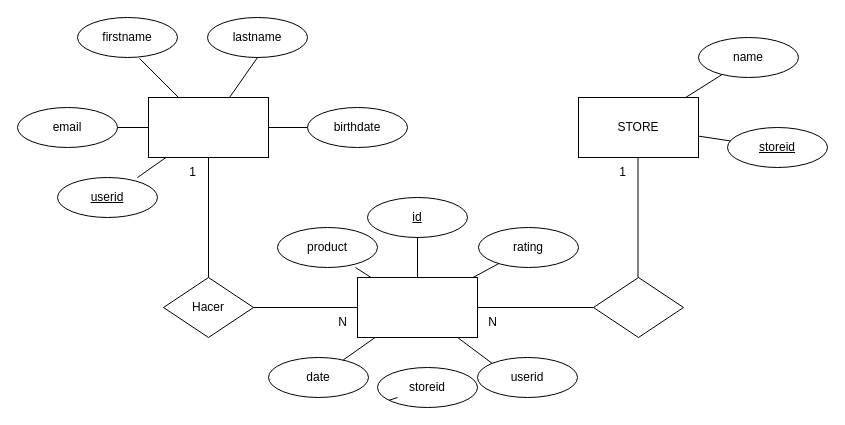
The diagram is 845 pixels wide and 425 high, and some of its shapes have lost their labels. The centre of each missing label's shape, as x and y in pixels:
"Recibir" goes at point (638, 307).
"REVIEW" goes at point (417, 307).
"USER" goes at point (208, 127).
